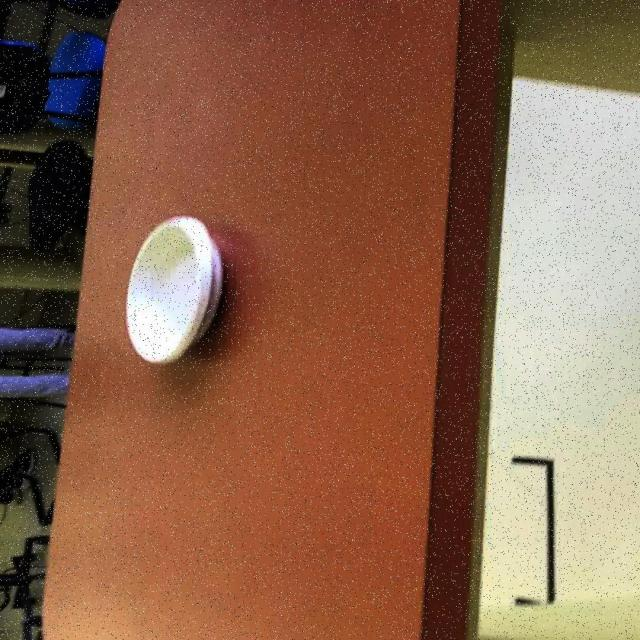Plate: (124, 214, 223, 364), (26, 140, 89, 251)
